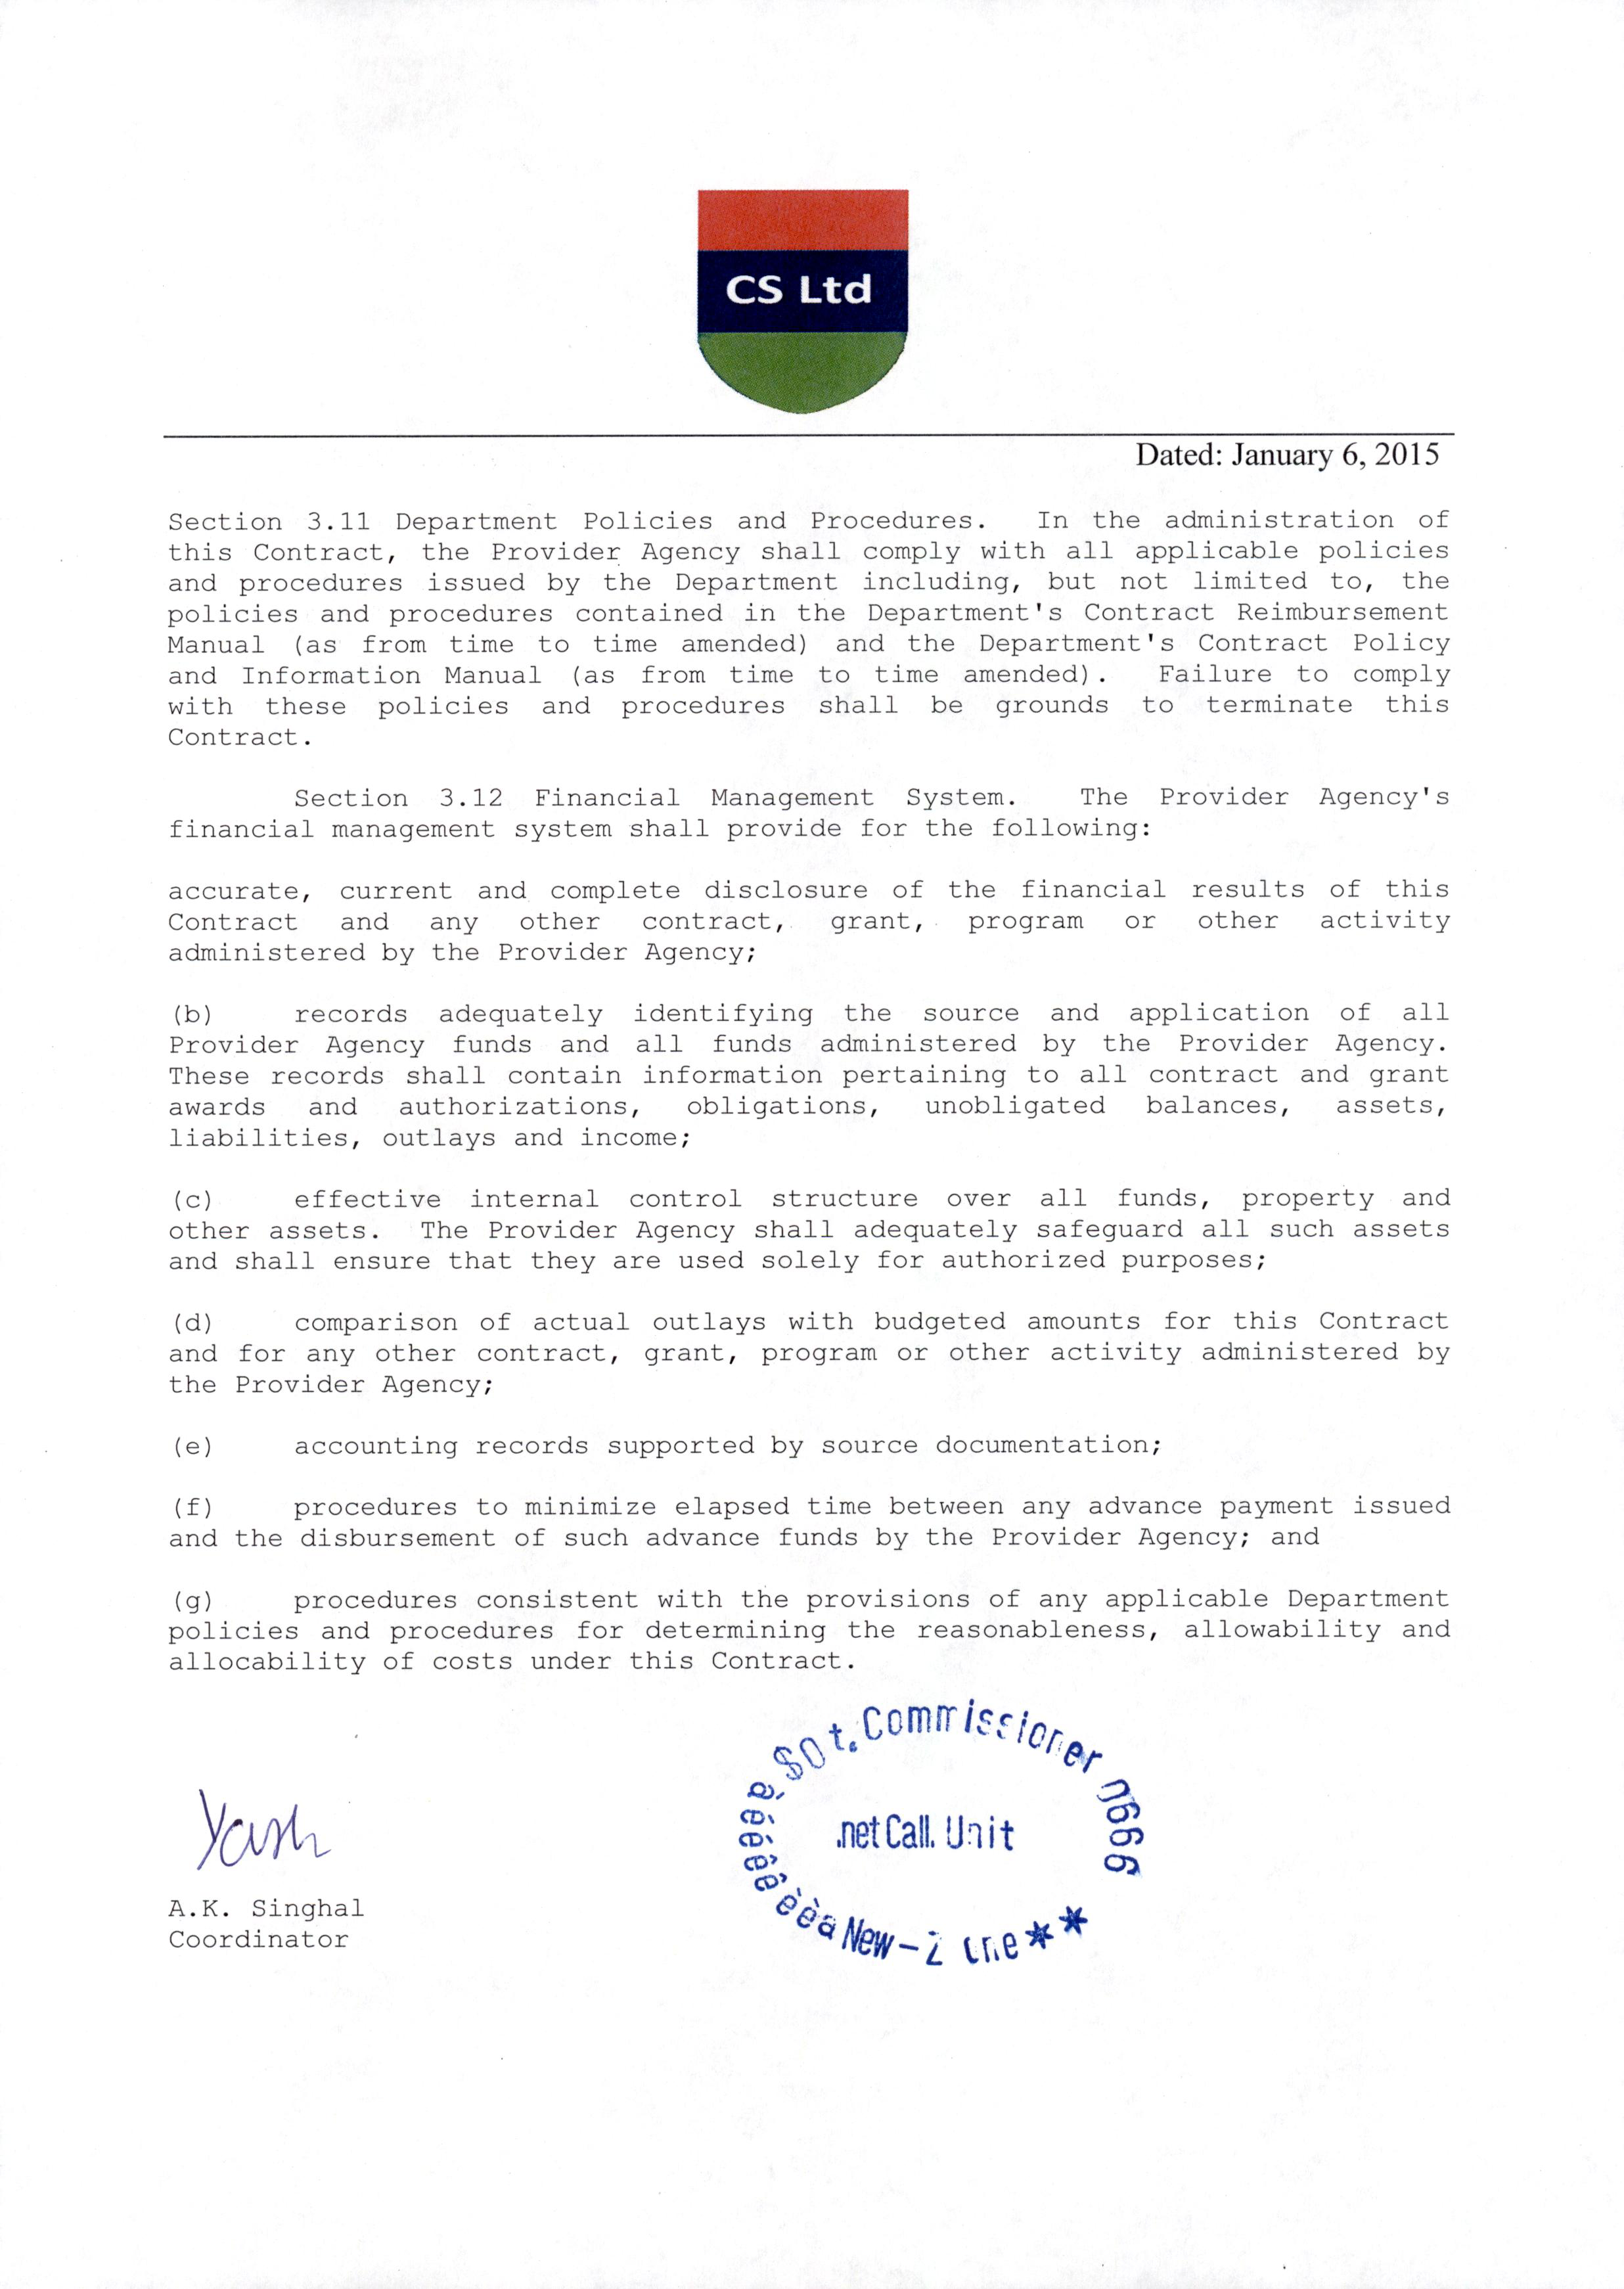Signature: (190, 1779, 336, 1878)
